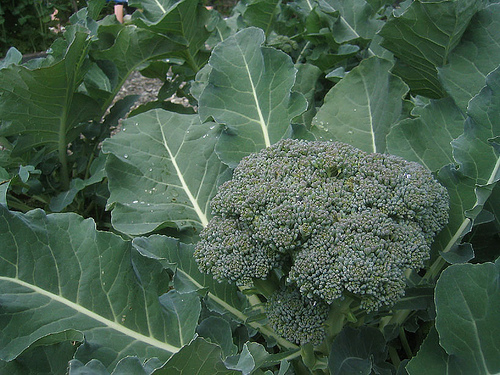broccoli: (197, 135, 452, 314)
